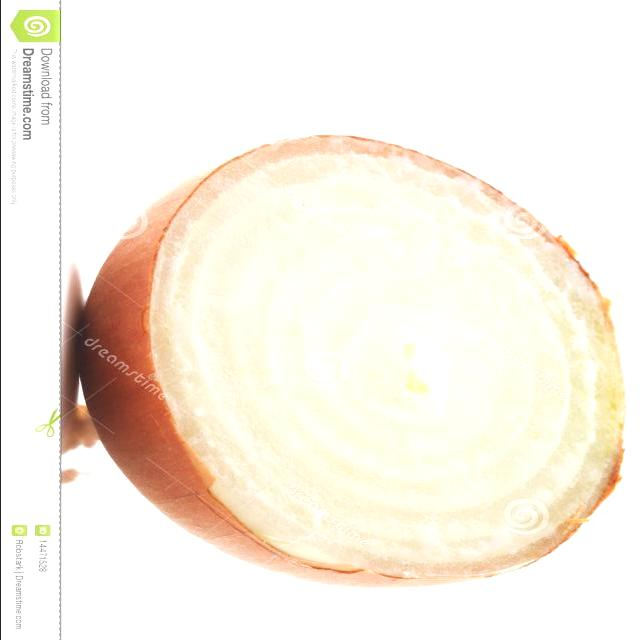onion: (72, 130, 632, 592)
